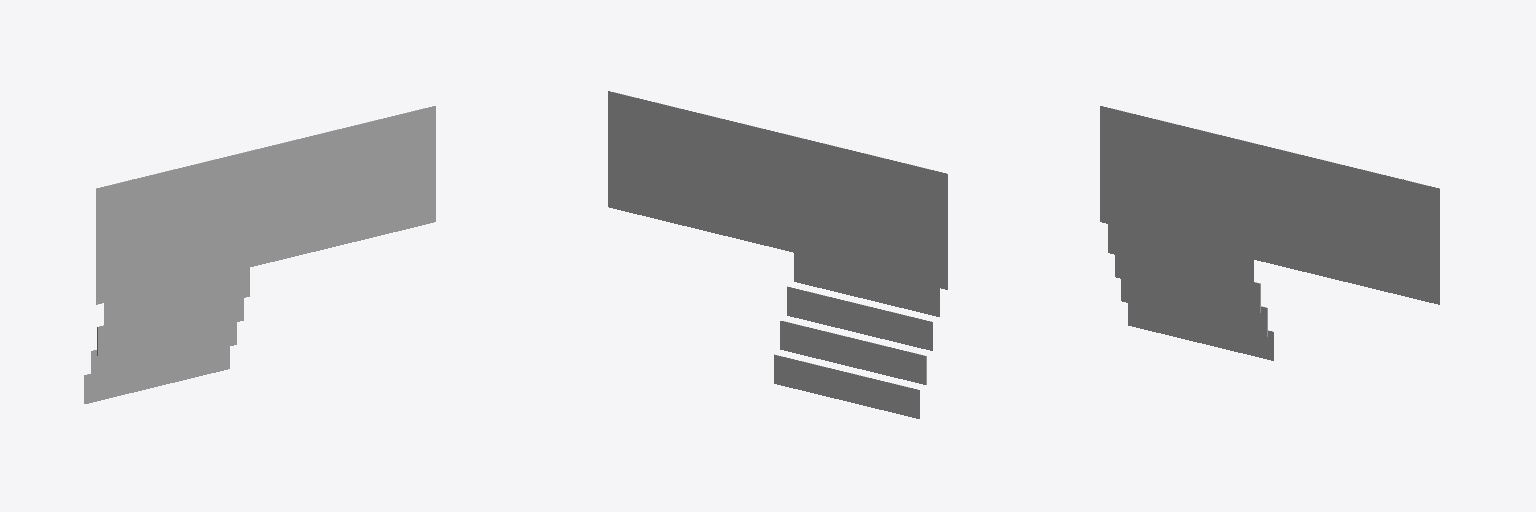
File: Platten_Eingang.obj
The picture shows the model from 3 angles: view 1: azimuth 30°, elevation 25°; view 2: azimuth 150°, elevation 25°; view 3: azimuth 330°, elevation 25°; orthographic projection.
Size of the model in its own units: 4900 by 3200 by 512.